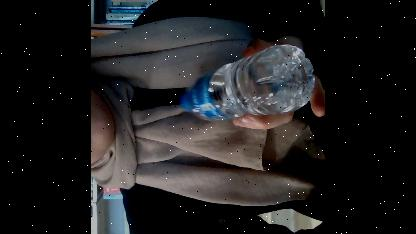Plastic Bottle: (176, 43, 316, 121)
